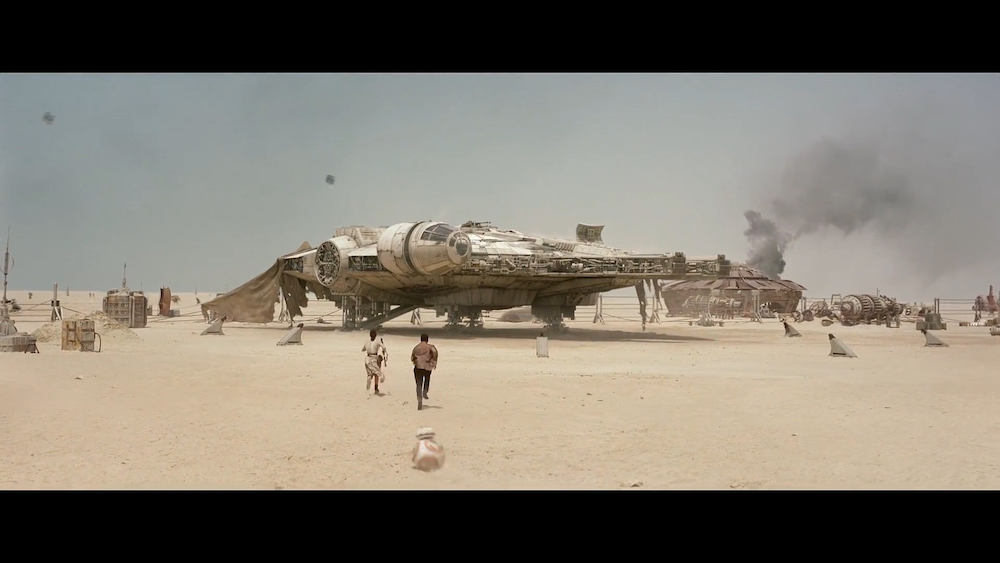Millennium Falcon: (279, 221, 731, 308)
Tie Fighter: (43, 113, 56, 125), (327, 176, 335, 185)
